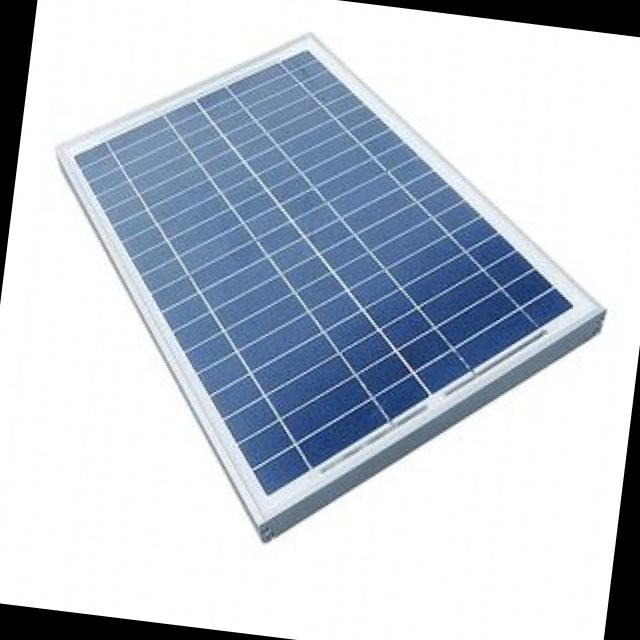no faulty: (75, 49, 565, 491)
